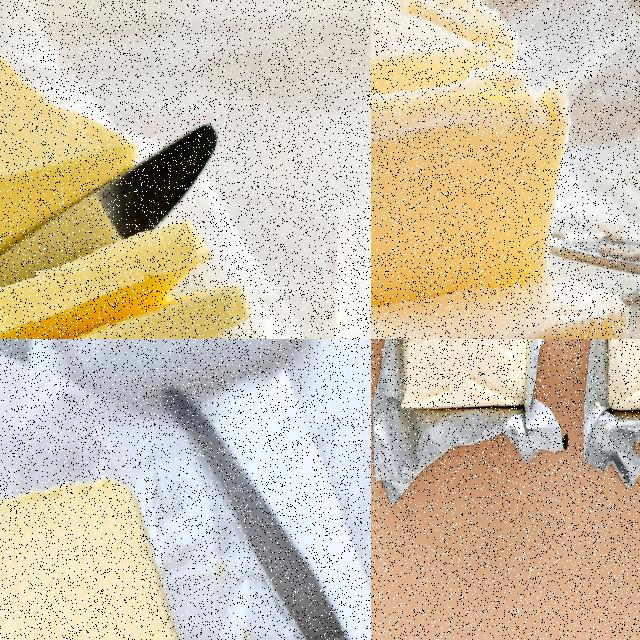butter: (371, 0, 634, 338), (0, 16, 145, 335), (0, 473, 215, 639), (0, 223, 293, 338), (398, 339, 529, 405)
